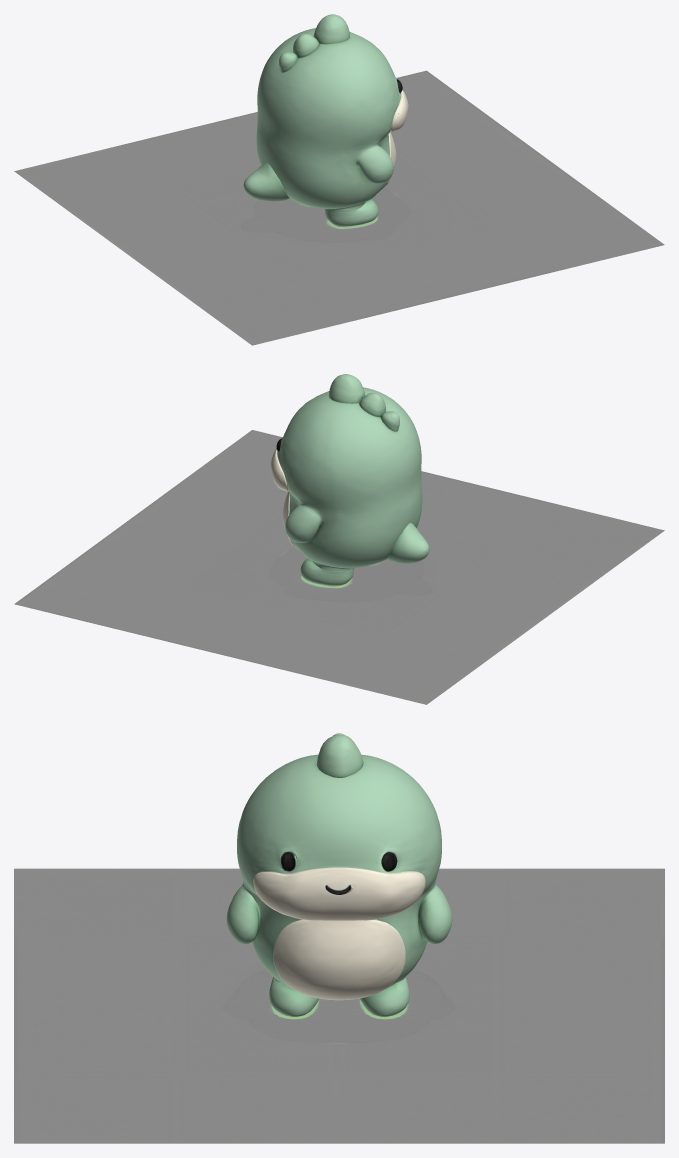
Rendered from original-dinosaur.glb.
The picture shows the model from 3 angles, top to bottom: view 1: azimuth 30°, elevation 25°; view 2: azimuth 150°, elevation 25°; view 3: azimuth 270°, elevation 25°; orthographic projection. The views are drawn at different scales.
Parts seen in each view (by area): view 1: tripo_node_9e7458de-cd3d-45ff-9432-69b7c154c16f; view 2: tripo_node_9e7458de-cd3d-45ff-9432-69b7c154c16f; view 3: tripo_node_9e7458de-cd3d-45ff-9432-69b7c154c16f.
Part boxes in pixels (box(x1,y1,x2,y2)): tripo_node_9e7458de-cd3d-45ff-9432-69b7c154c16f: box(14, 14, 664, 345); tripo_node_9e7458de-cd3d-45ff-9432-69b7c154c16f: box(14, 374, 664, 704); tripo_node_9e7458de-cd3d-45ff-9432-69b7c154c16f: box(14, 733, 664, 1143).
Size of the model in its own units: 0.9995 by 0.4487 by 0.9995.
1 material, 1 textured.
